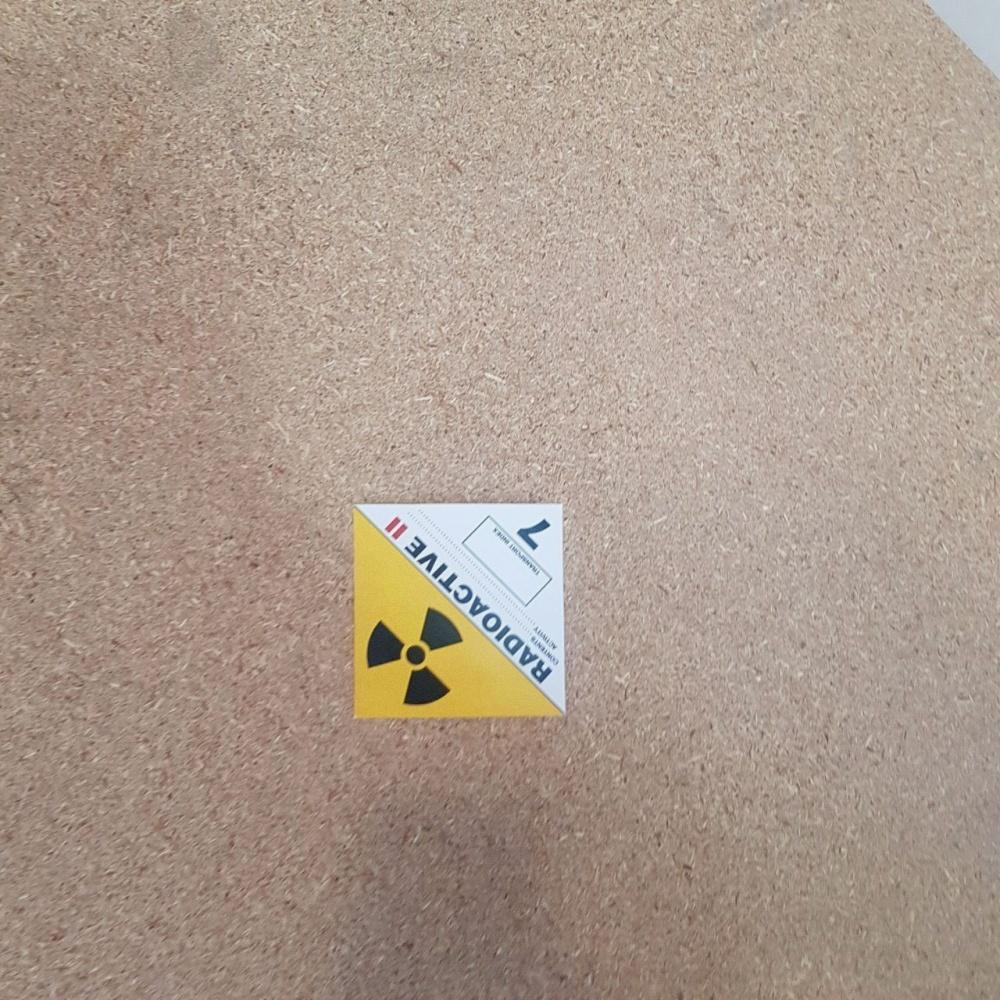radioactive: (352, 501, 565, 720)
